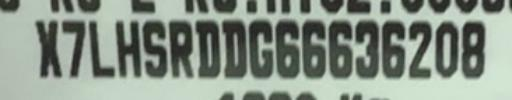letter: (272, 18, 302, 78), (458, 18, 488, 78), (112, 18, 142, 78), (192, 19, 222, 79), (33, 19, 63, 79), (87, 19, 117, 77), (220, 16, 248, 78), (300, 18, 328, 80), (60, 19, 88, 79), (140, 19, 168, 79), (248, 18, 274, 80), (168, 17, 194, 77), (326, 17, 352, 77), (433, 17, 459, 77), (407, 19, 433, 79), (354, 20, 380, 80), (380, 20, 406, 80)
